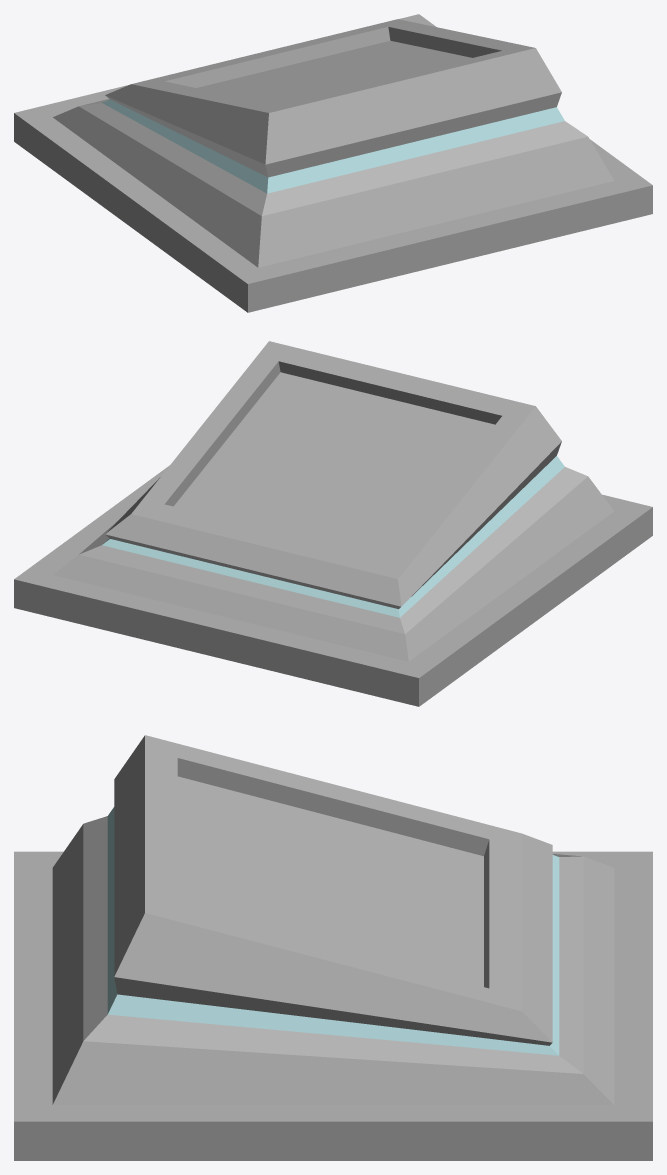
The model's file is checklist_altar.fbx.
3 views of the same model, one above another, from view 1: azimuth 30°, elevation 25°; view 2: azimuth 150°, elevation 25°; view 3: azimuth 270°, elevation 25° (orthographic). The views are drawn at different scales.
Visible parts, largest first — view 1: Cube; view 2: Cube; view 3: Cube.
Boxes of the visible parts, bbox=[...] form: Cube: bbox=[14, 14, 652, 312]; Cube: bbox=[14, 341, 652, 706]; Cube: bbox=[14, 735, 652, 1160].
Bounding box in the file's own units: 24.67 × 8.6 × 24.67.
